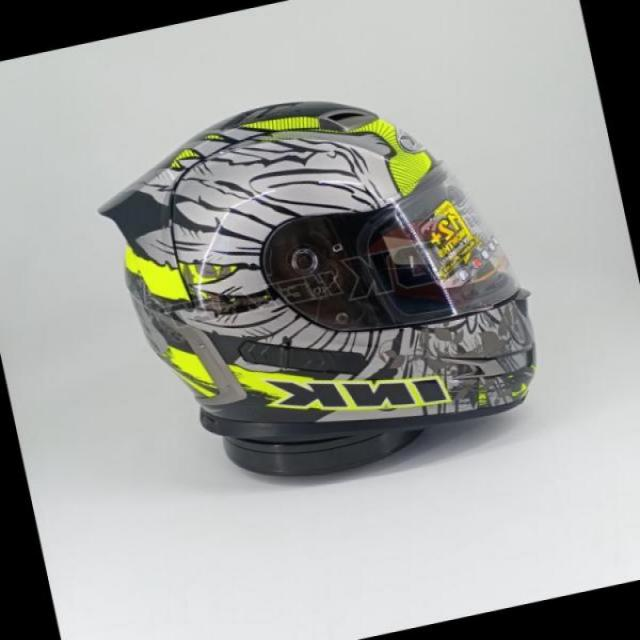Helmet: (107, 88, 534, 504)
